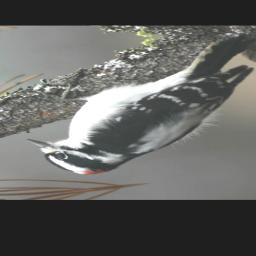Woodpecker: (0, 34, 256, 179)
